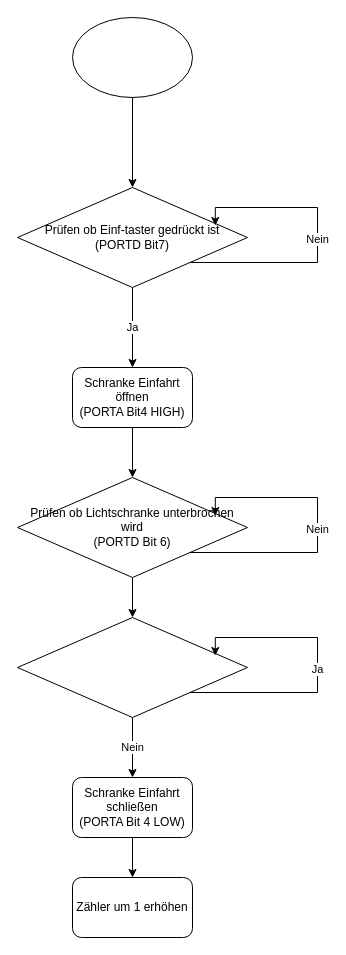
Some shapes in this 346 by 955 pixel diagram are drawn without their labels. Here are the shapes that lost their labels. From the top down, the centre of each, then its label:
At point (132, 57): "Start".
At point (132, 667): "Prüfen ob Lichtschranke weiterhin unterbrochen wird (PORTD Bit 6)".
